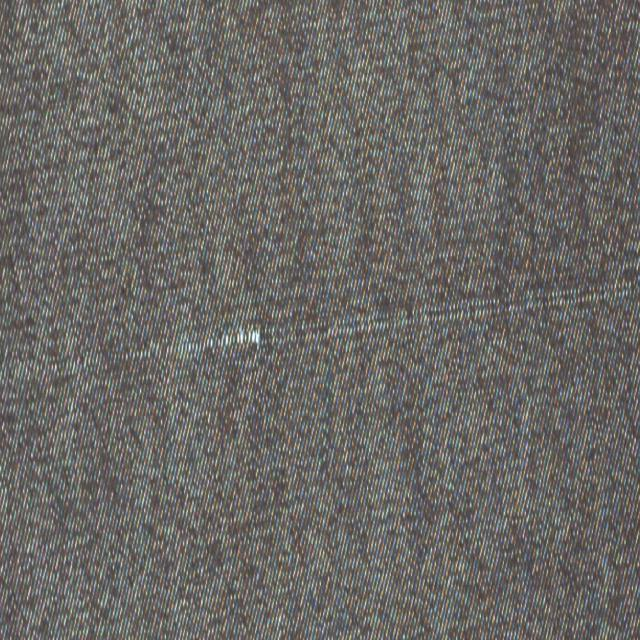Line: (57, 273, 640, 375)
